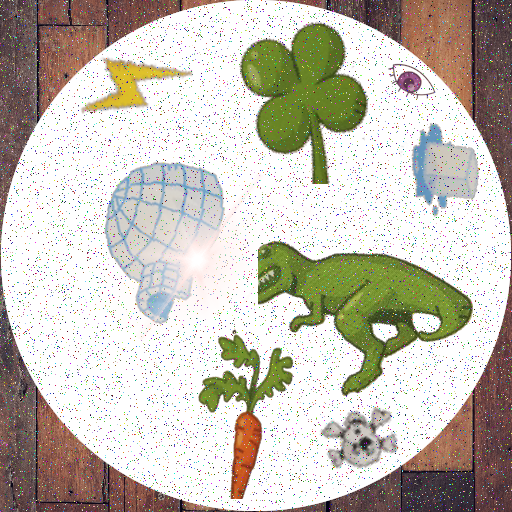carrot_icon: (170, 328, 341, 499)
cloverleaf_icon: (209, 17, 376, 184)
cube_icon: (399, 119, 500, 220)
dino_icon: (258, 181, 473, 396)
eye_icon: (386, 55, 438, 107)
igloo_icon: (82, 159, 251, 328)
lightning_icon: (76, 28, 194, 146)
skull_icon: (316, 398, 401, 483)
